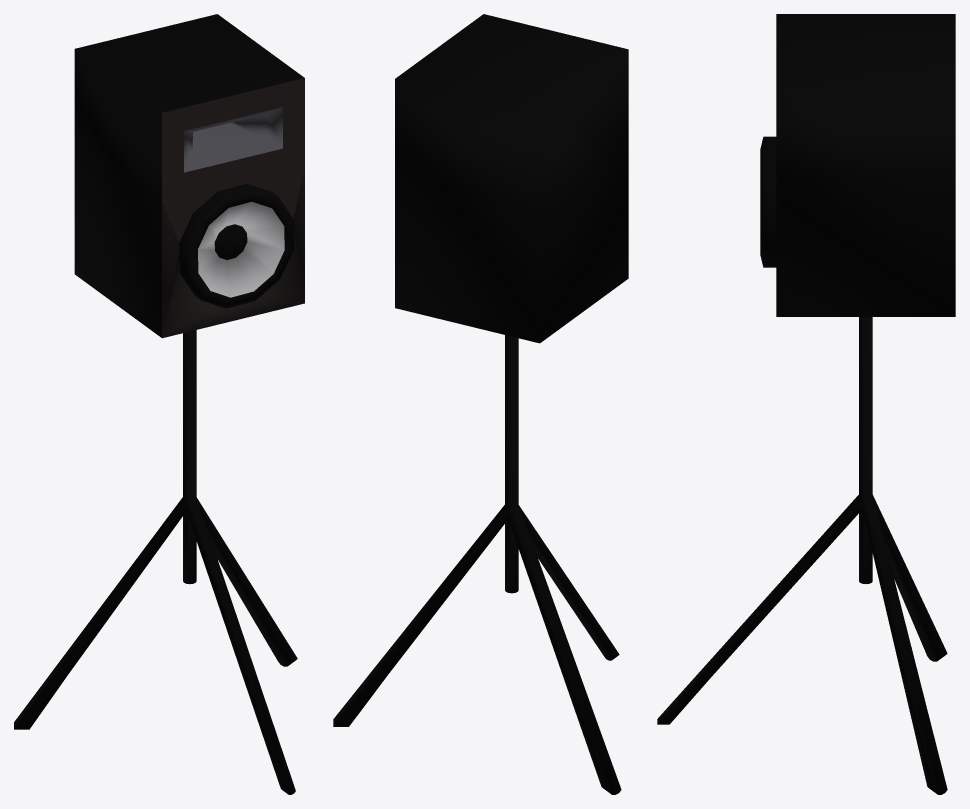
File: SpeakersStand.glb
3 renders of one model, left to right at view 1: azimuth 30°, elevation 25°; view 2: azimuth 150°, elevation 25°; view 3: azimuth 270°, elevation 25°, orthographic. The views are drawn at different scales.
Parts seen in each view (by area): view 1: SpeakersStand; view 2: SpeakersStand; view 3: SpeakersStand.
Part boxes in pixels (box(x1,y1,x2,y2)): SpeakersStand: box(14, 14, 304, 794); SpeakersStand: box(333, 14, 628, 794); SpeakersStand: box(657, 14, 955, 794).
Size of the model in its own units: 1.31 by 2.91 by 1.16.
Materials: 2 (2 with a texture image).
